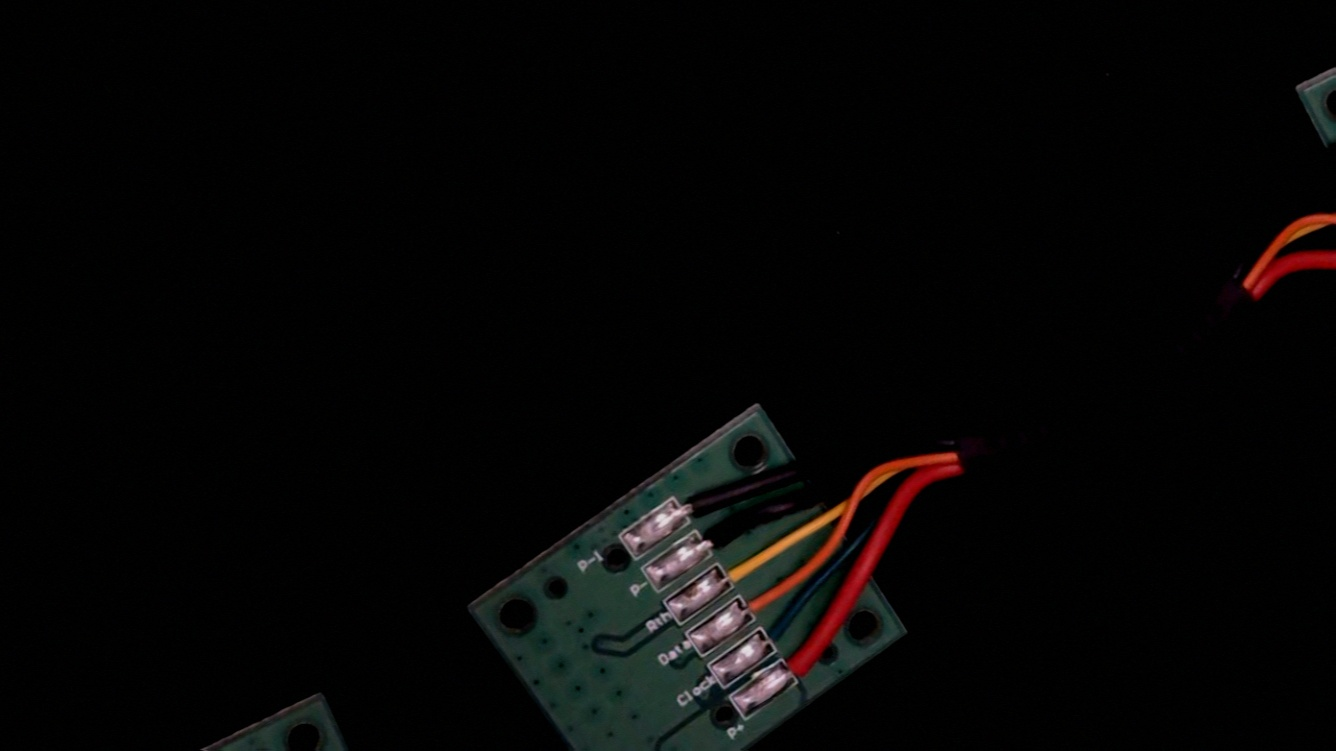Black: (684, 507, 757, 566)
Black1: (663, 472, 735, 533)
Green: (747, 605, 808, 663)
Orange: (728, 575, 792, 632)
Red: (768, 640, 828, 698)
Yellow: (705, 542, 772, 600)
